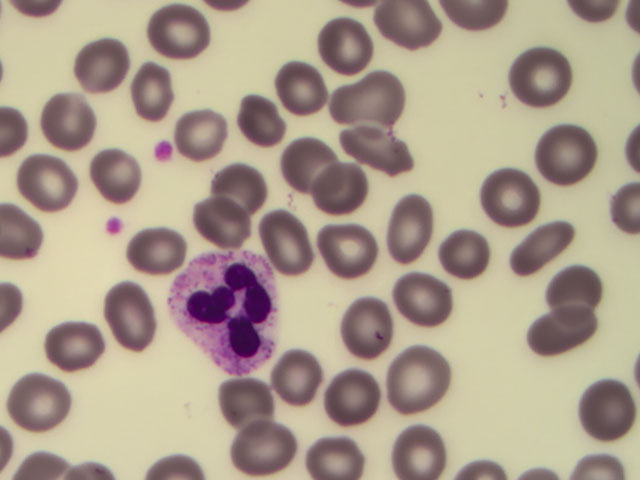Platelets: (136, 432, 162, 453), (141, 351, 163, 375), (213, 364, 232, 378)
RBC: (288, 83, 375, 164), (242, 7, 318, 87), (300, 218, 380, 291), (212, 52, 289, 126), (49, 340, 124, 413), (426, 34, 492, 116), (560, 252, 625, 333), (75, 13, 145, 87), (48, 238, 111, 318), (512, 24, 581, 96), (523, 342, 599, 407), (338, 34, 405, 107), (406, 361, 491, 418), (255, 291, 332, 353), (280, 194, 343, 268), (305, 364, 367, 439), (399, 122, 459, 197), (552, 411, 627, 470), (86, 172, 155, 236), (40, 109, 108, 173), (170, 146, 244, 204), (504, 167, 583, 221), (183, 192, 240, 264), (125, 261, 190, 324), (232, 374, 289, 444), (516, 103, 581, 164), (590, 152, 640, 231), (335, 333, 392, 402), (162, 344, 208, 429), (591, 100, 640, 179), (158, 5, 225, 62), (1, 381, 42, 470), (419, 427, 486, 480), (128, 85, 187, 143), (1, 45, 54, 102), (353, 433, 416, 480), (3, 237, 35, 304), (1, 1, 63, 28), (617, 26, 640, 89), (582, 1, 632, 24)
WBC: (413, 211, 542, 342)
